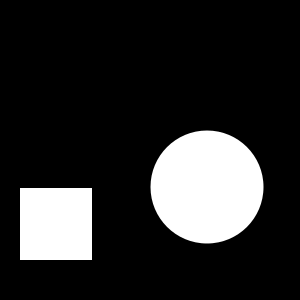circle: (20, 188, 92, 260)
rectangle: (150, 130, 264, 244)
